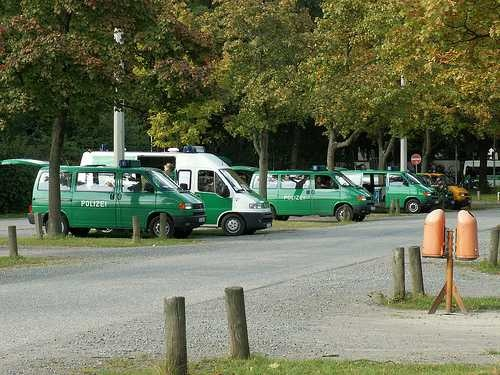Police Van: (70, 140, 280, 221), (24, 159, 196, 238), (248, 163, 371, 229), (377, 167, 444, 216)
